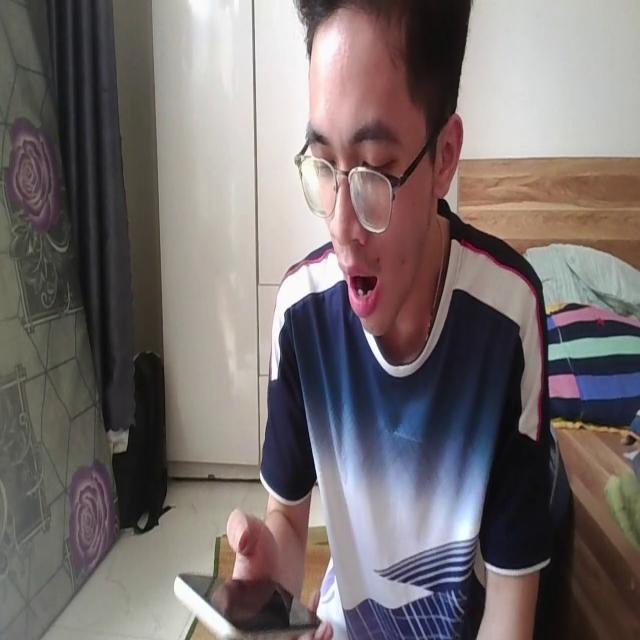phone: (169, 559, 333, 640)
student: (225, 1, 551, 640)
